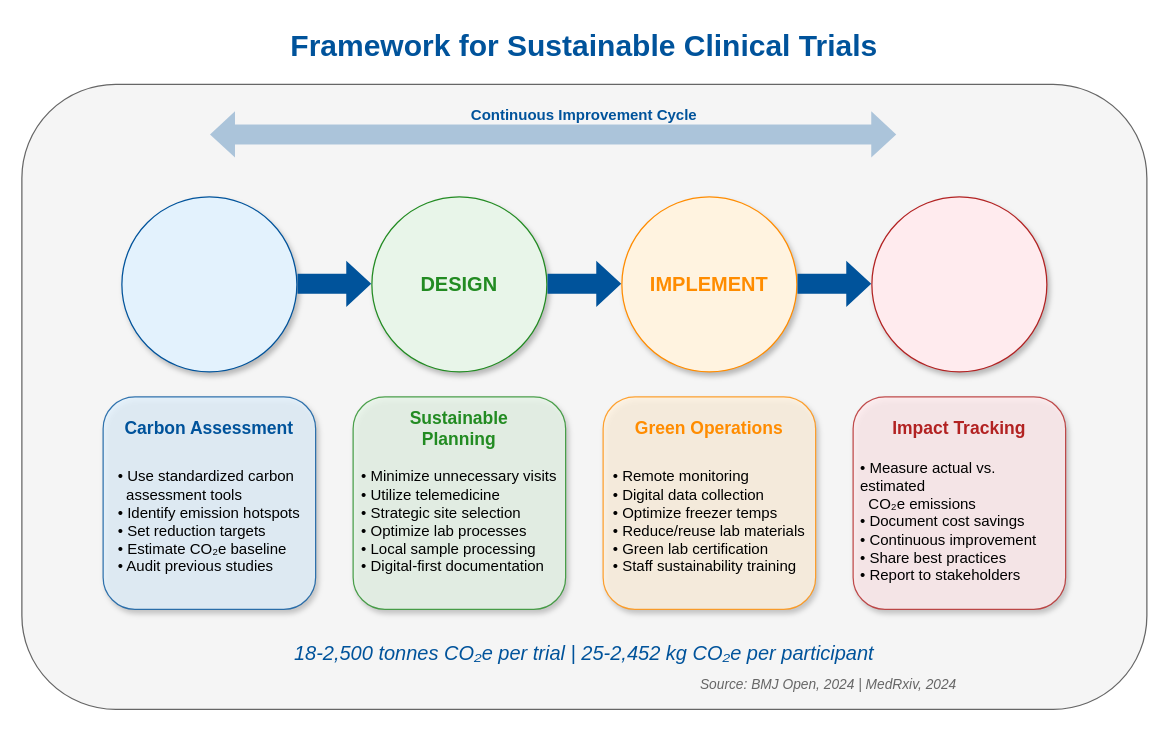
The diagram is 1169 pixels wide and 731 high, and some of its shapes have lost their labels. The centre of each missing label's shape, as x and y in pixels:
"ASSESS" belongs at point 210,286.
"MONITOR" belongs at point 960,286.
